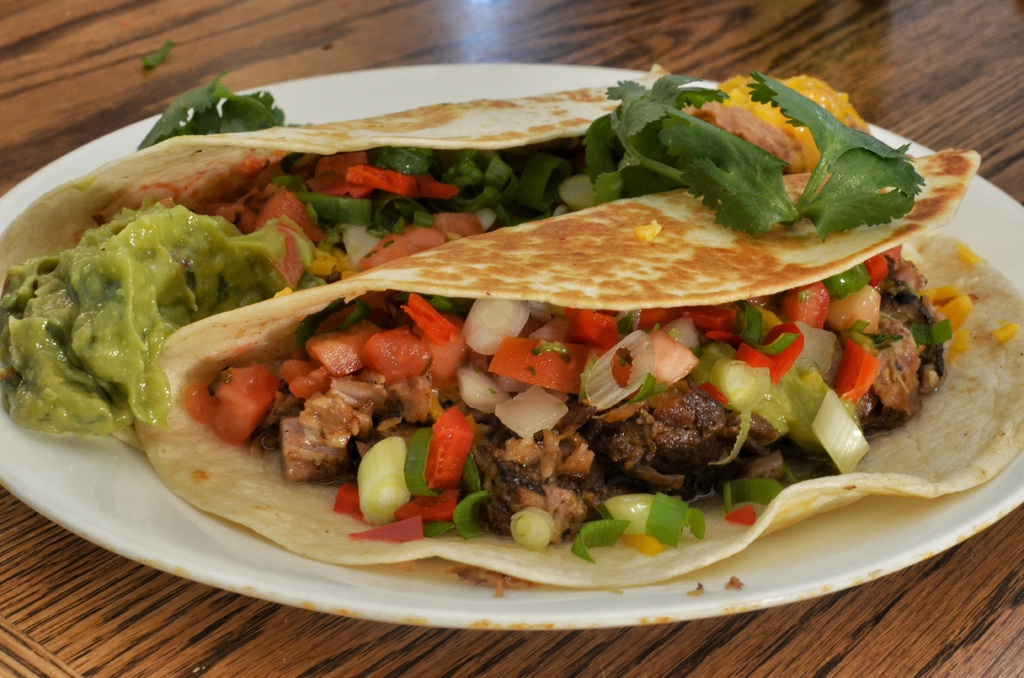taco: (132, 147, 1023, 591), (0, 66, 820, 464)
